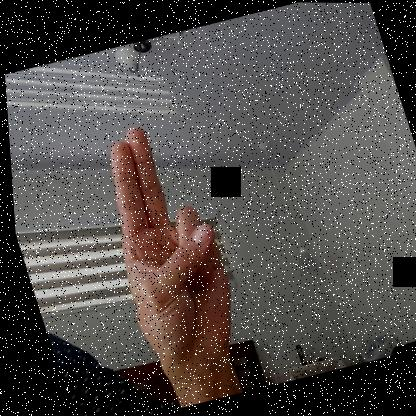U: (81, 117, 250, 375)
